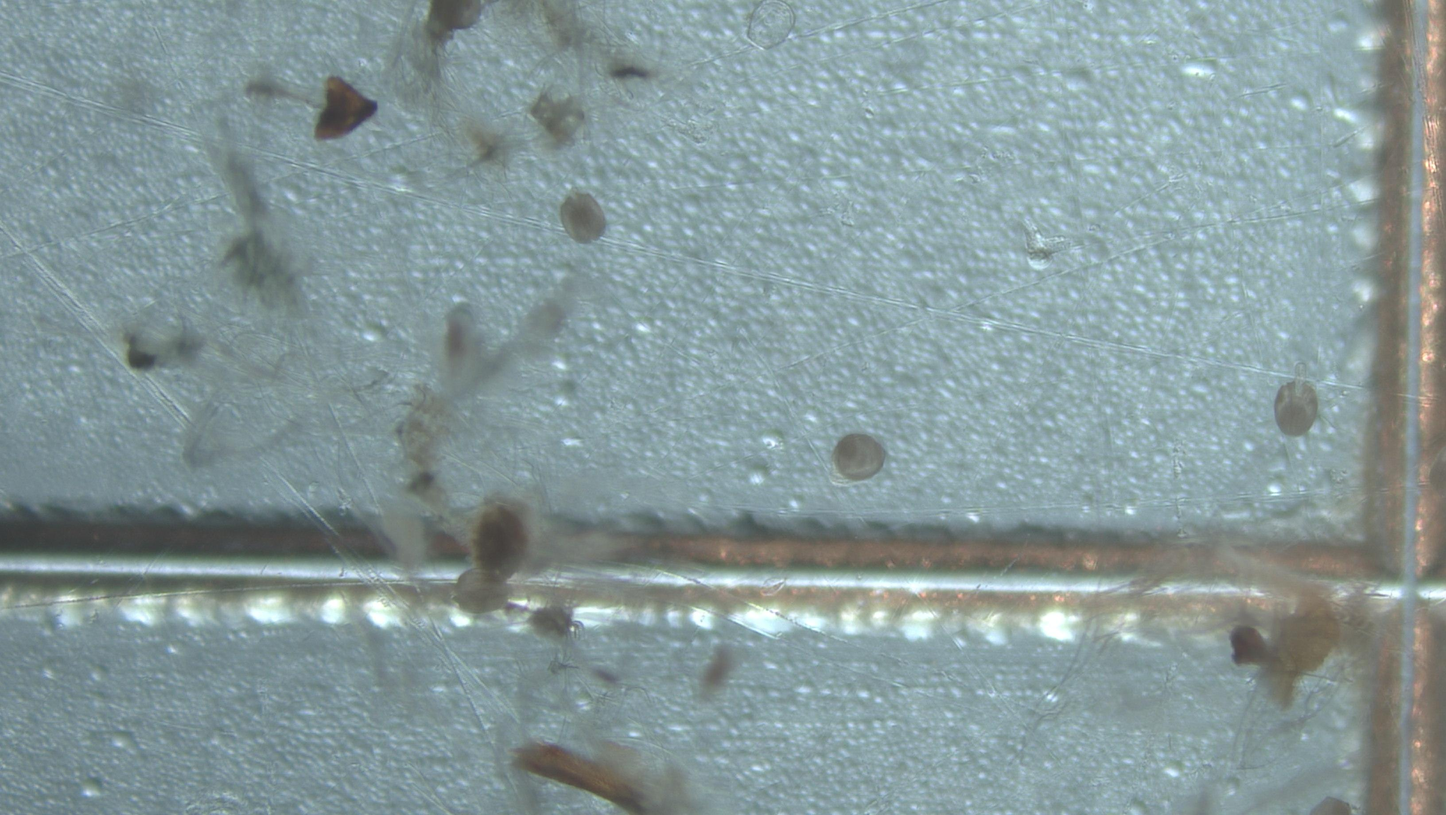live: (1274, 364, 1318, 437), (832, 434, 886, 483), (560, 192, 607, 244)
